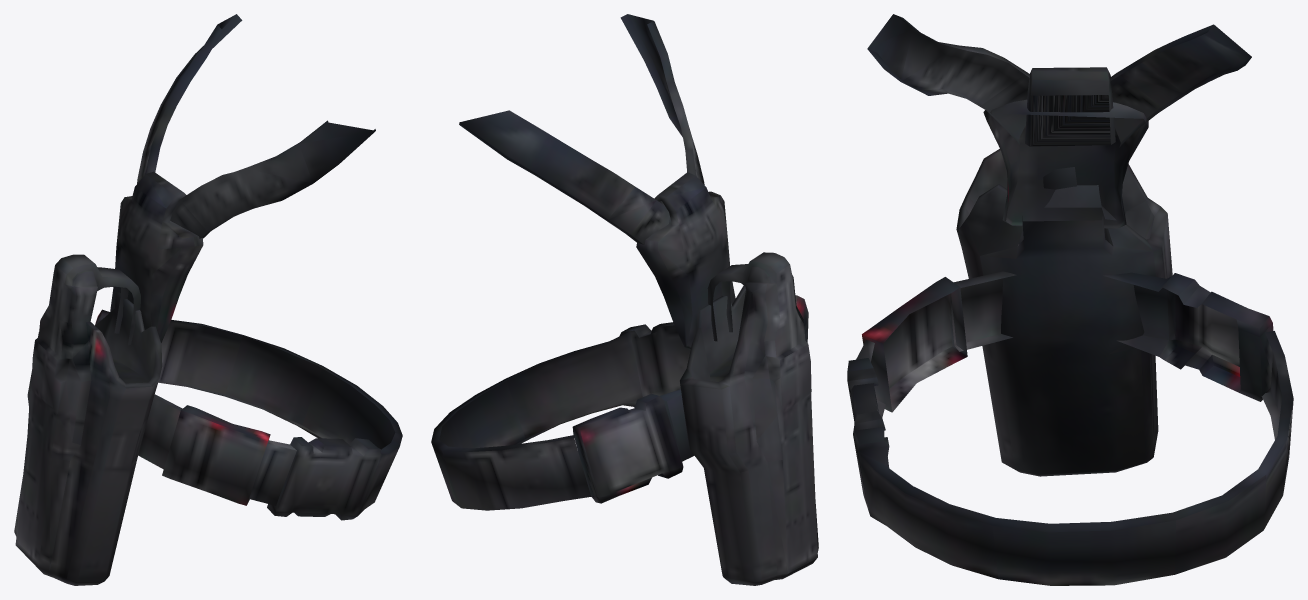
File: prota.holster.v4.glb
3 views of the same model, side by side, from view 1: azimuth 30°, elevation 25°; view 2: azimuth 150°, elevation 25°; view 3: azimuth 270°, elevation 25° (orthographic). The views are drawn at different scales.
Visible parts, largest first — view 1: Prota_Holster_Tex; view 2: Prota_Holster_Tex; view 3: Prota_Holster_Tex.
Part boxes in pixels (bbox=[...]): Prota_Holster_Tex: bbox=[14, 14, 402, 585]; Prota_Holster_Tex: bbox=[431, 14, 818, 585]; Prota_Holster_Tex: bbox=[847, 14, 1293, 585].
Size of the model in its own units: 0.2499 by 0.3149 by 0.2247.
Materials: 1 (1 with a texture image).
